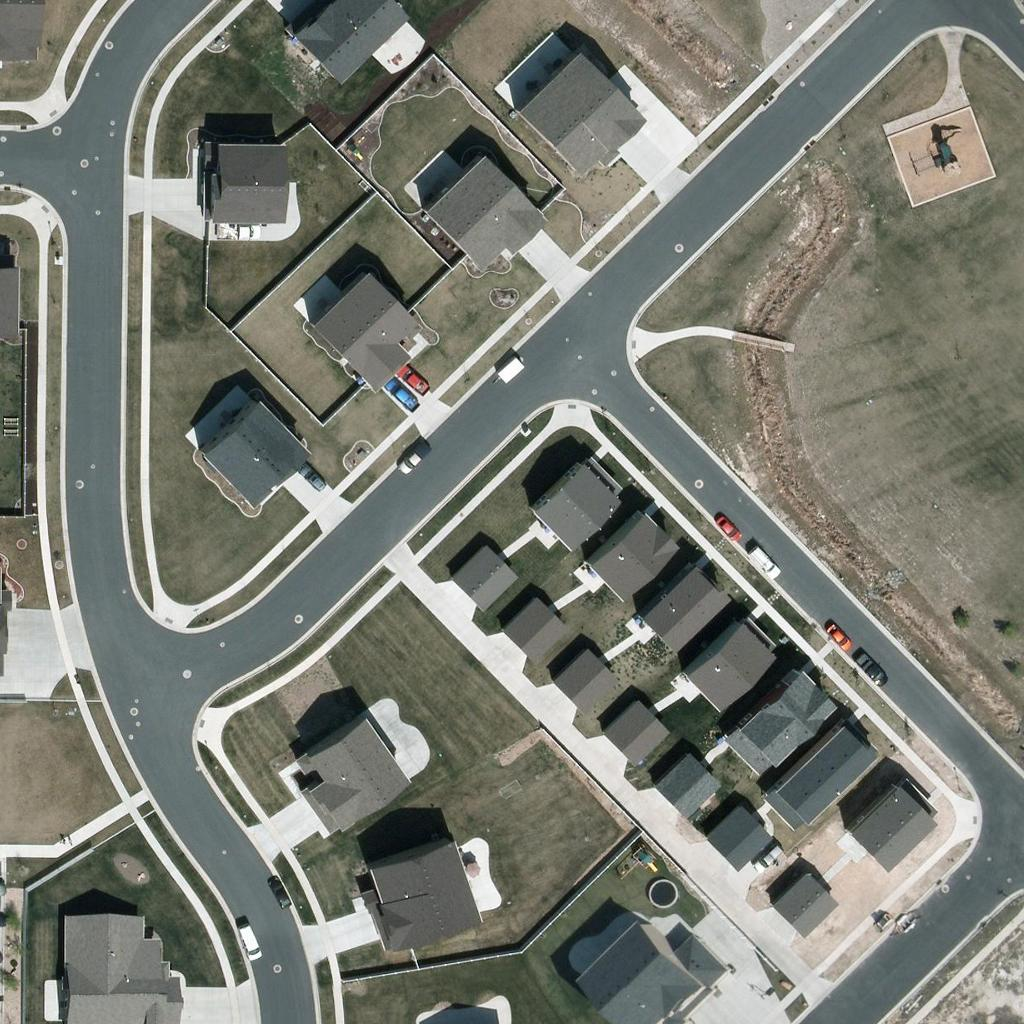car: (228, 214, 262, 248), (393, 359, 427, 393), (382, 376, 416, 410), (396, 440, 430, 474), (299, 462, 333, 496), (708, 509, 742, 543), (746, 544, 780, 578), (820, 619, 854, 653), (854, 652, 888, 686), (263, 875, 297, 909), (233, 926, 267, 960)
